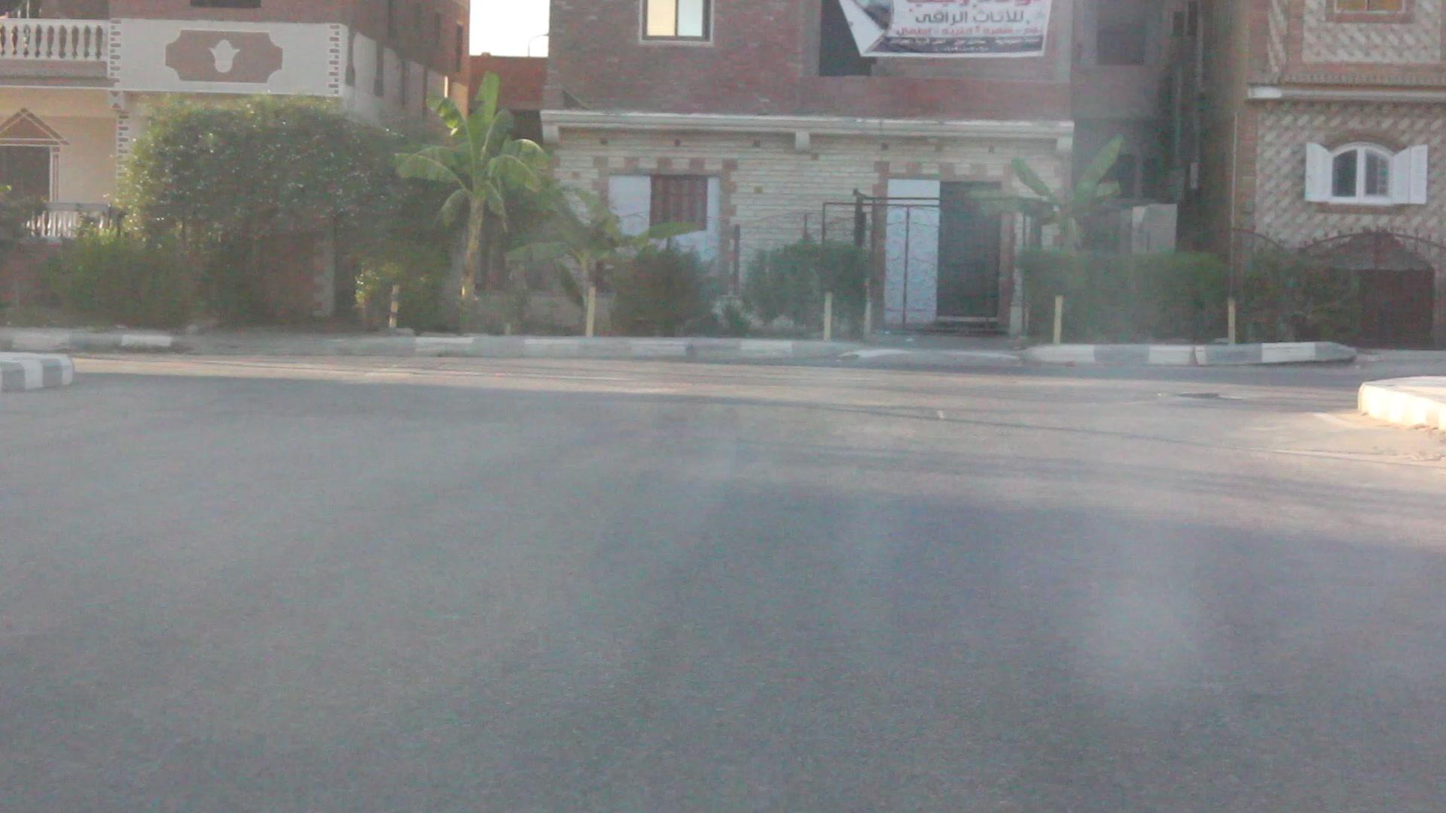Bump: (0, 388, 1445, 460)
